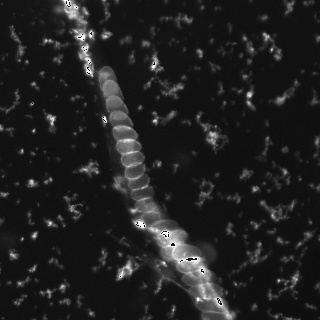embryo: (195, 296, 230, 314), (101, 80, 123, 108), (189, 283, 223, 300), (157, 229, 188, 247), (109, 110, 134, 132), (106, 96, 128, 121), (97, 66, 118, 92), (171, 244, 203, 261), (182, 270, 216, 286), (151, 219, 180, 235), (176, 258, 205, 273), (141, 212, 168, 228), (116, 138, 141, 155), (112, 125, 137, 141), (161, 244, 186, 260), (120, 151, 144, 167), (135, 198, 159, 214), (125, 162, 146, 180), (131, 186, 154, 202), (128, 174, 151, 189)
